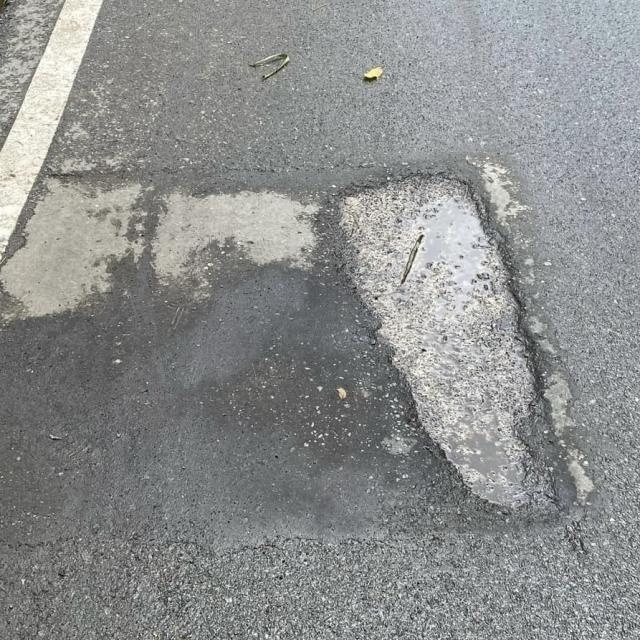pothole: (296, 152, 592, 546)
